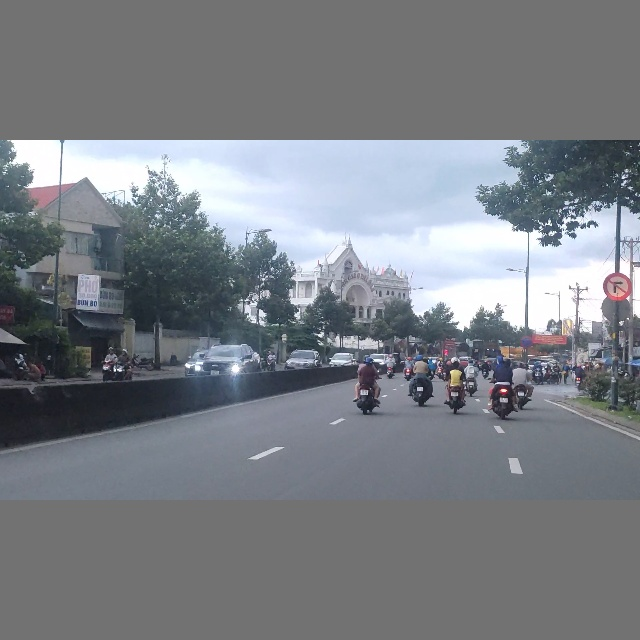P.123b: (602, 272, 632, 300)
P.130: (521, 336, 532, 348)
